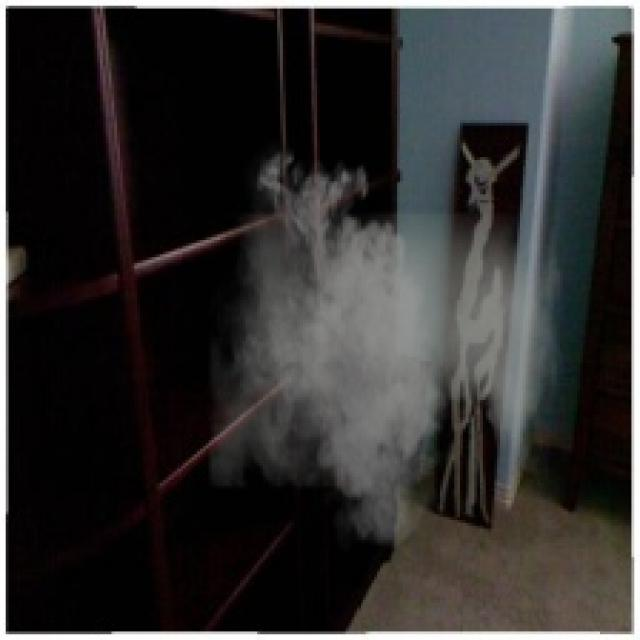smoke: (208, 137, 563, 563)
